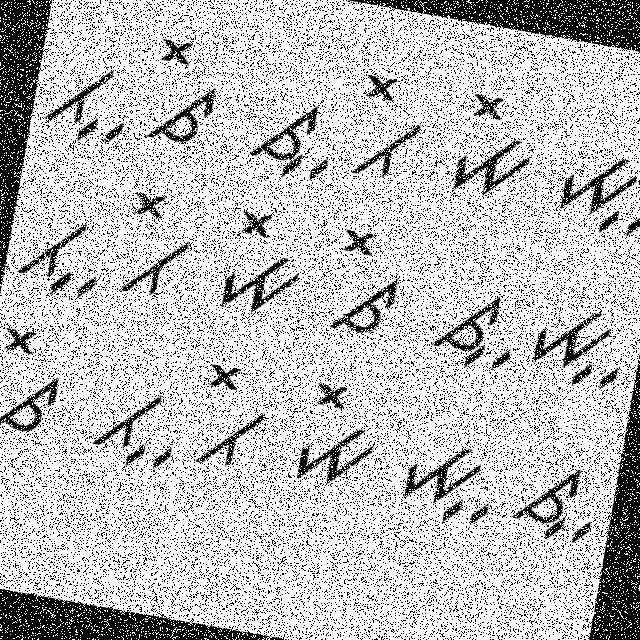bah: (40, 46, 144, 160), (82, 368, 189, 473), (10, 198, 113, 307)
bo: (111, 185, 205, 308), (344, 69, 434, 192), (188, 356, 274, 482)
cah: (232, 82, 346, 190), (498, 446, 608, 556), (421, 272, 532, 378)
co: (309, 216, 416, 347), (140, 32, 231, 152), (0, 321, 78, 444)
mah: (389, 408, 510, 544), (524, 295, 632, 397), (548, 133, 639, 244)
mo: (283, 357, 392, 502), (204, 200, 314, 322), (438, 86, 542, 205)
